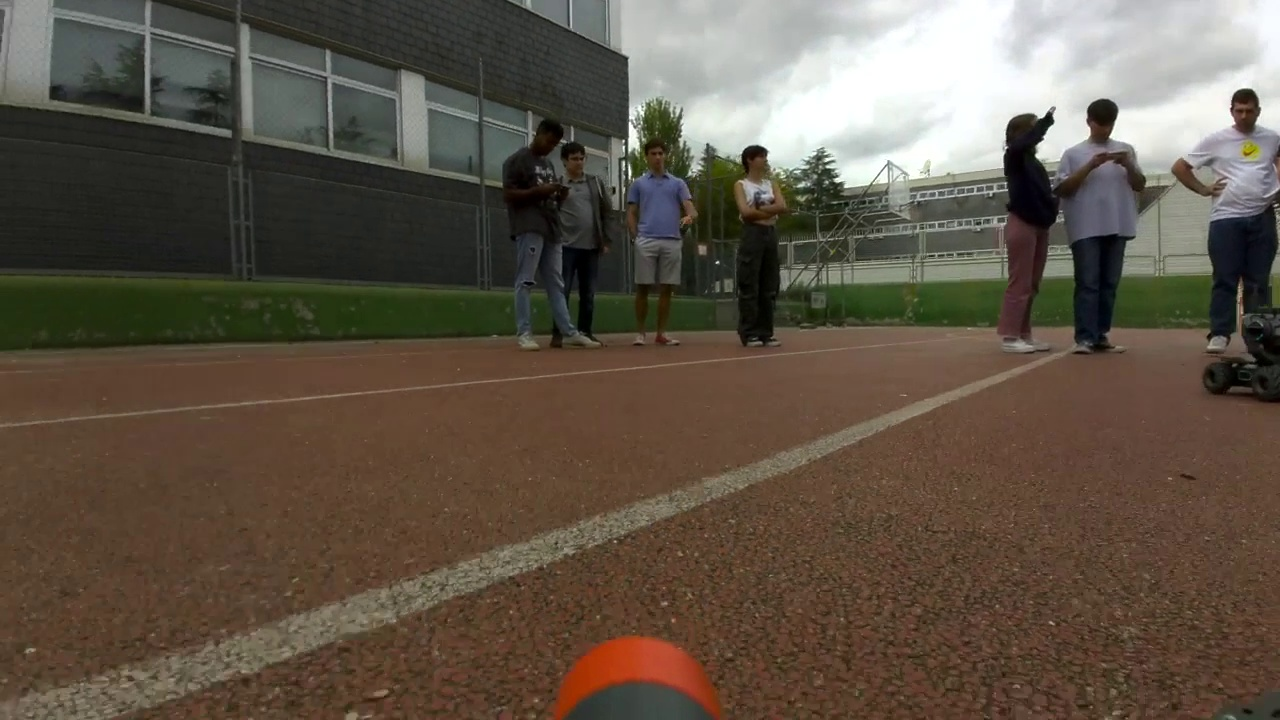robot: (1205, 304, 1280, 400)
